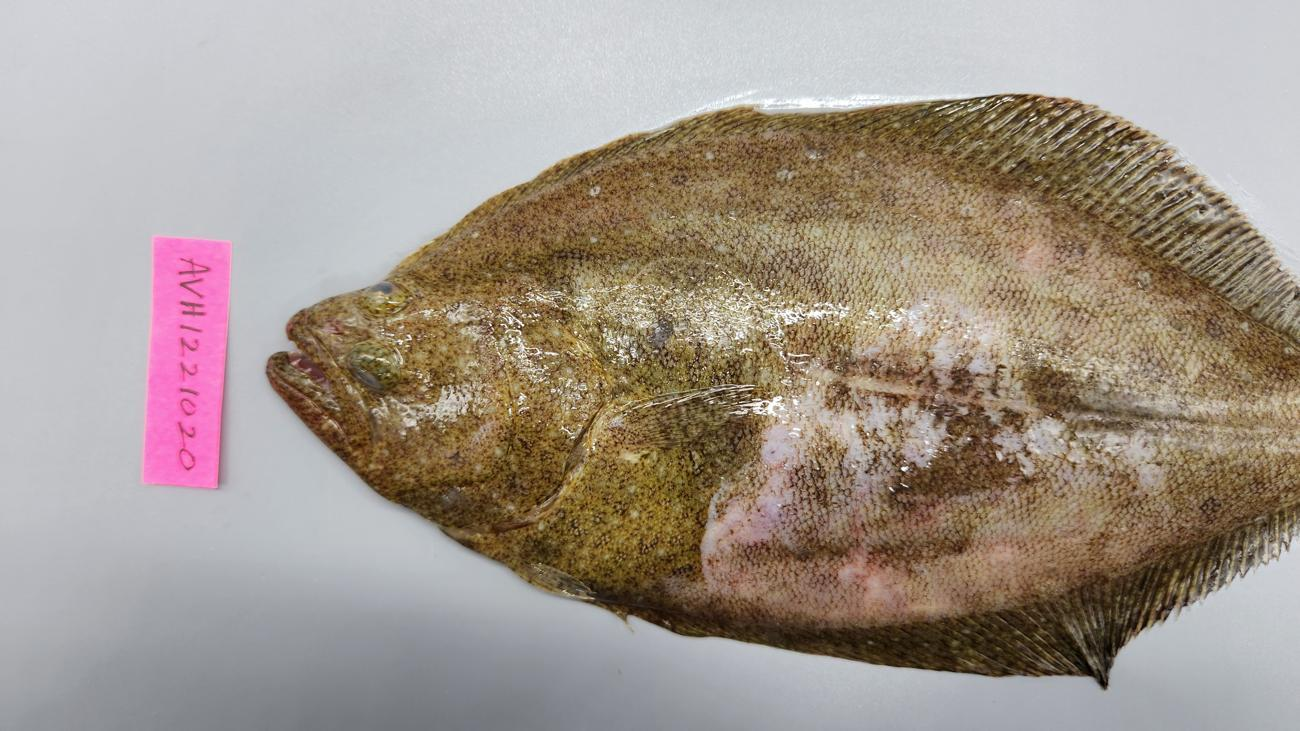VIDYU: (654, 270, 1298, 632), (895, 171, 1215, 318)
